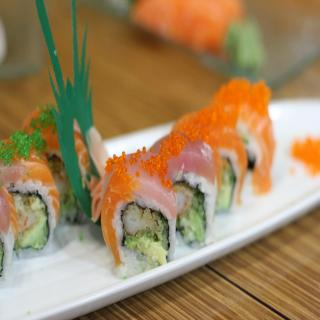Sushi: (0, 78, 276, 279), (95, 160, 175, 280)
